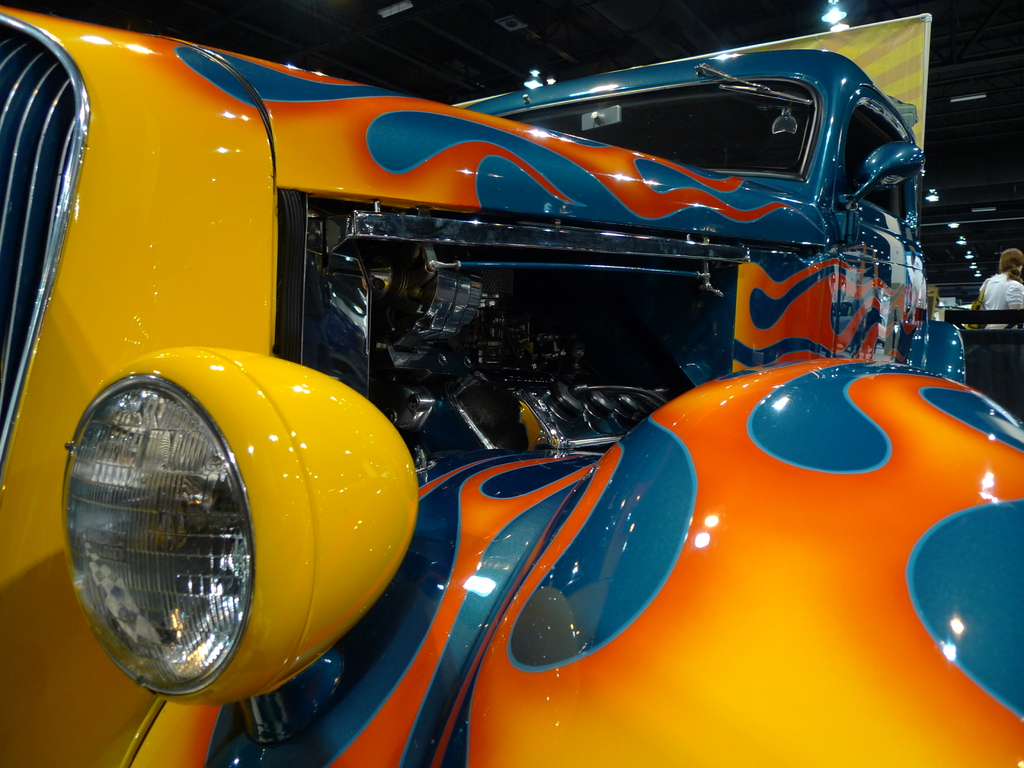Car: (0, 10, 1023, 767)
